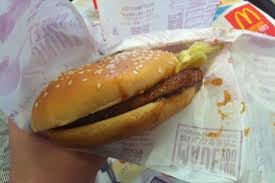hamburger: (33, 49, 208, 141)
